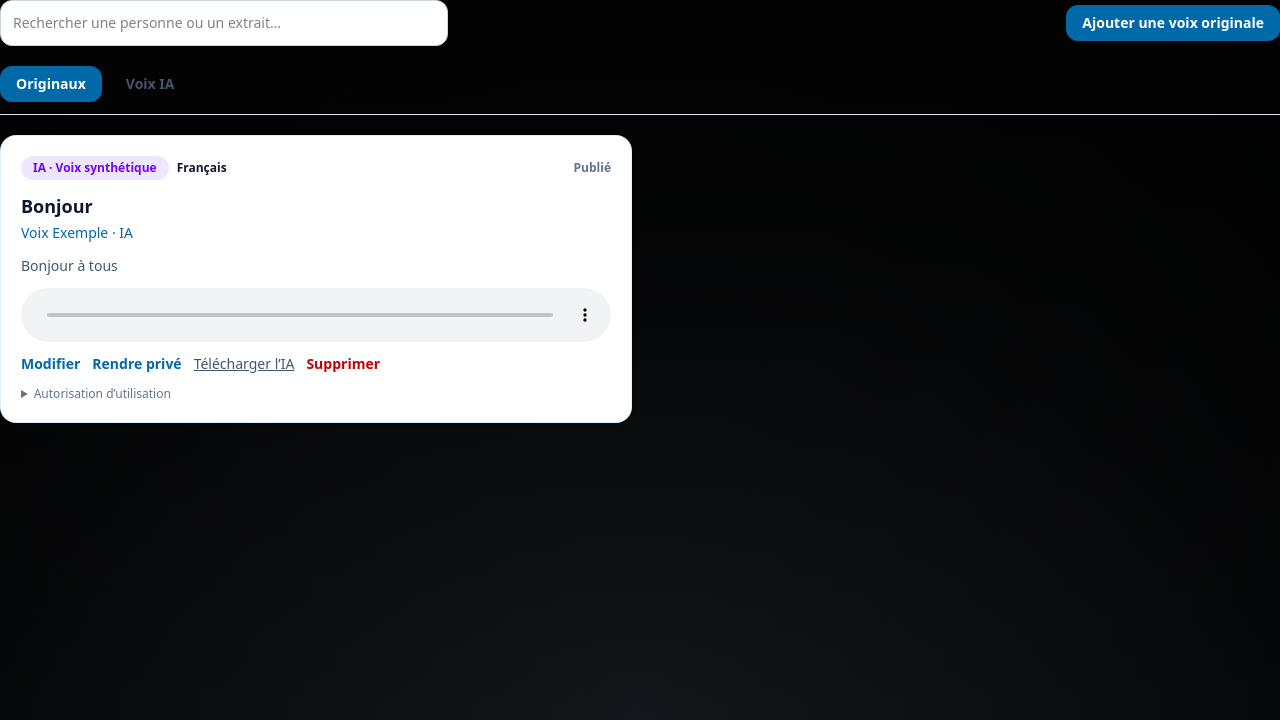
supprimer demande confirmation et annuler ne fait aucun appel
Step 1. Click the button "Supprimer" → (343, 364), box [306,354,380,374]
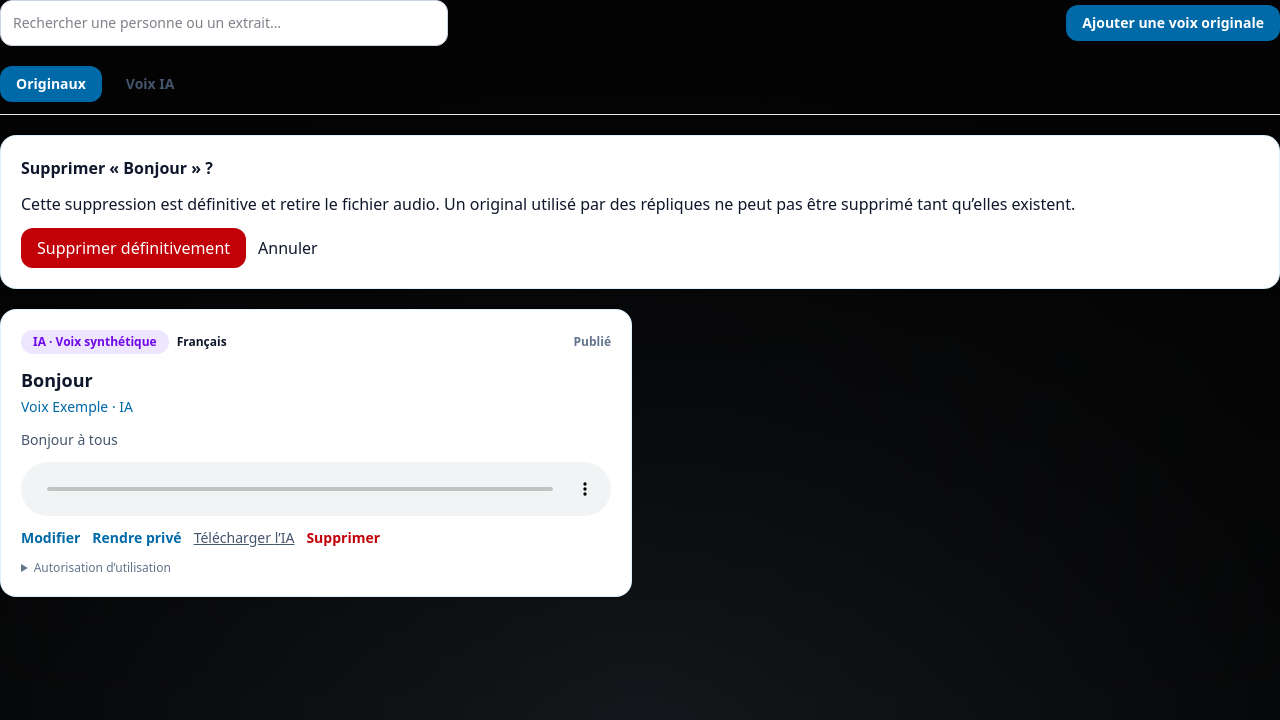
Step 2. Click the button "Annuler" → (288, 248), box [258,228,318,268]
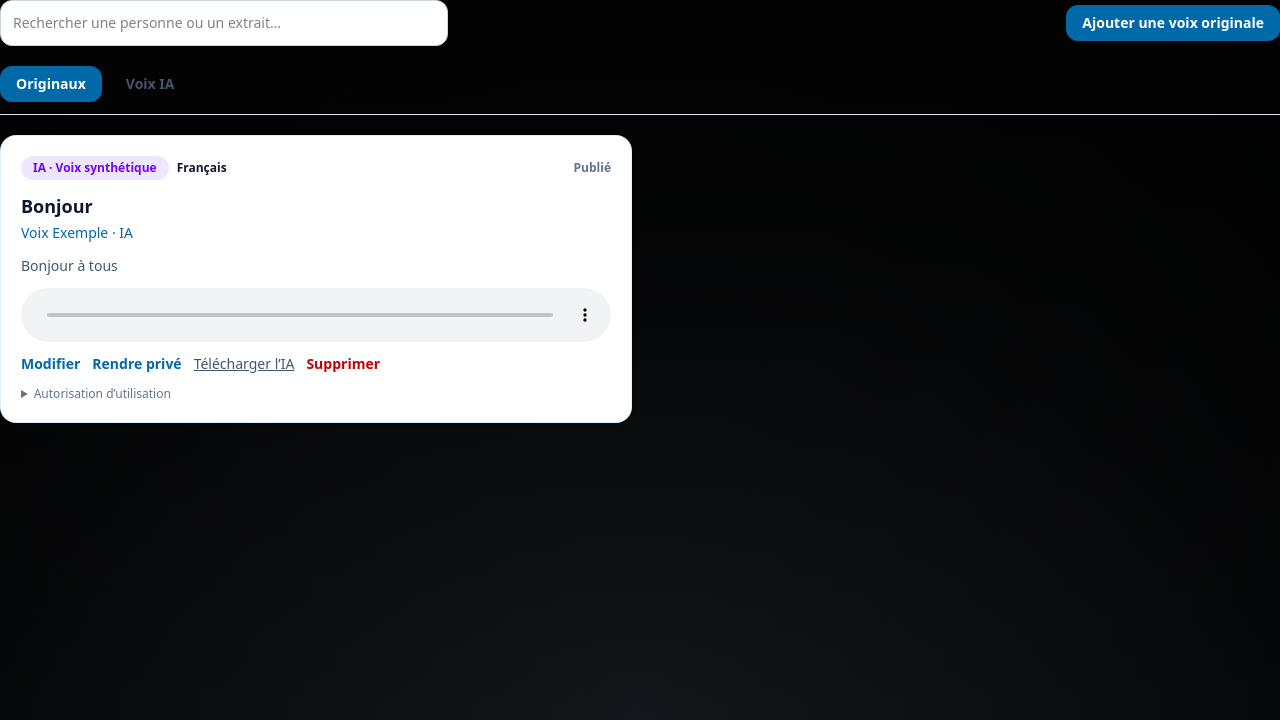
Now the dialog is gone
Step 3. Click the button "Supprimer" → (343, 364), box [306,354,380,374]
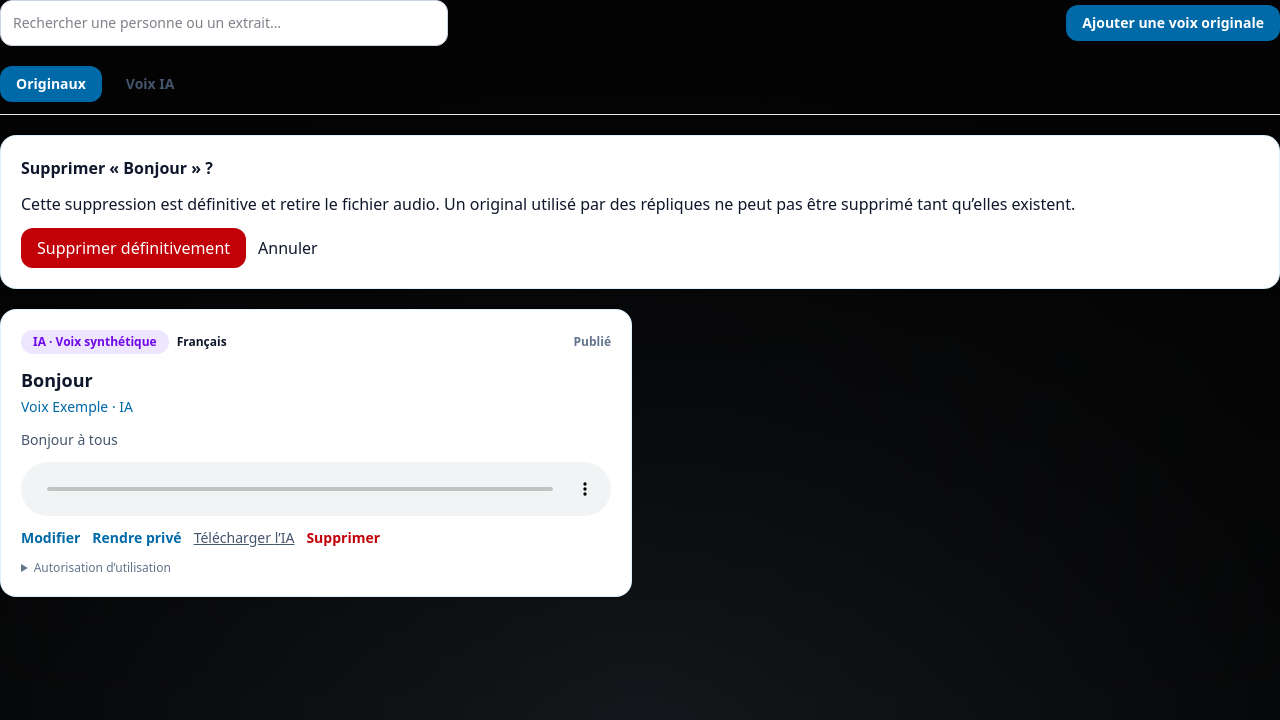
Step 4. Click the button "Supprimer définitivement" → (134, 248), box [21,228,246,268]
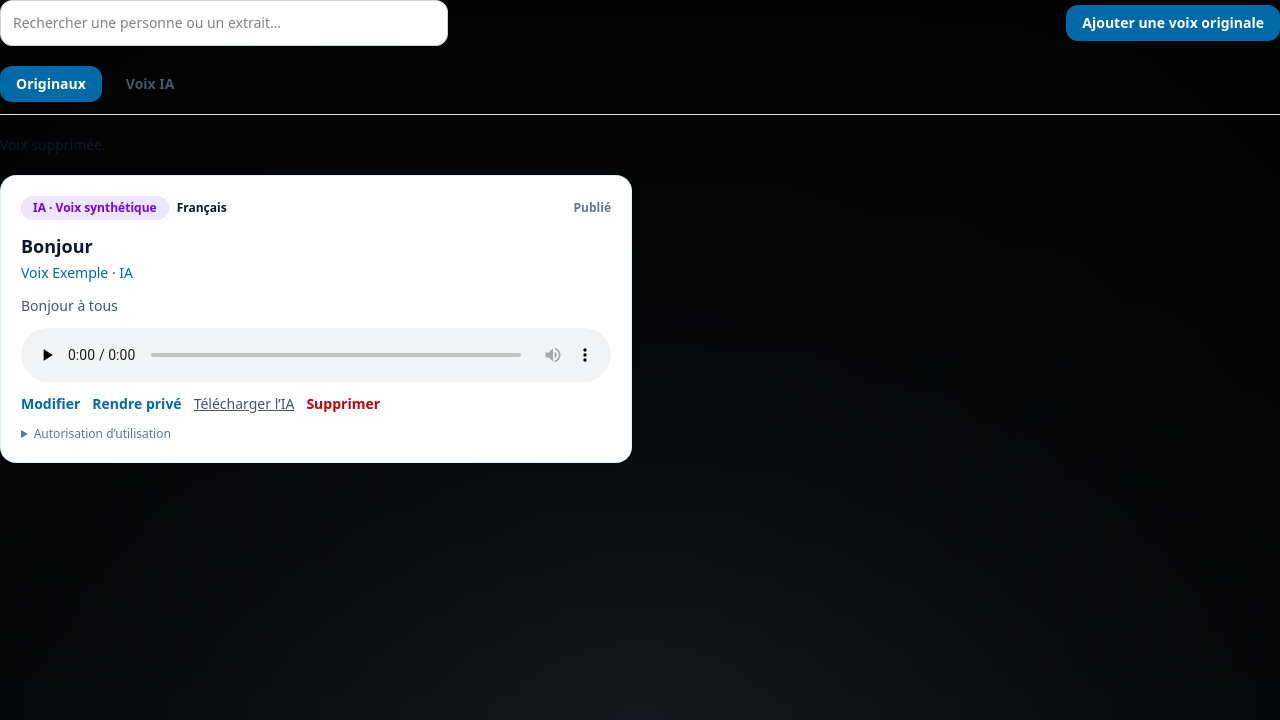
Now the dialog is gone
